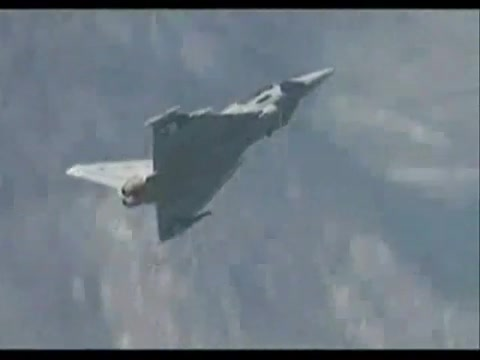aeroplane: (67, 63, 339, 244)
